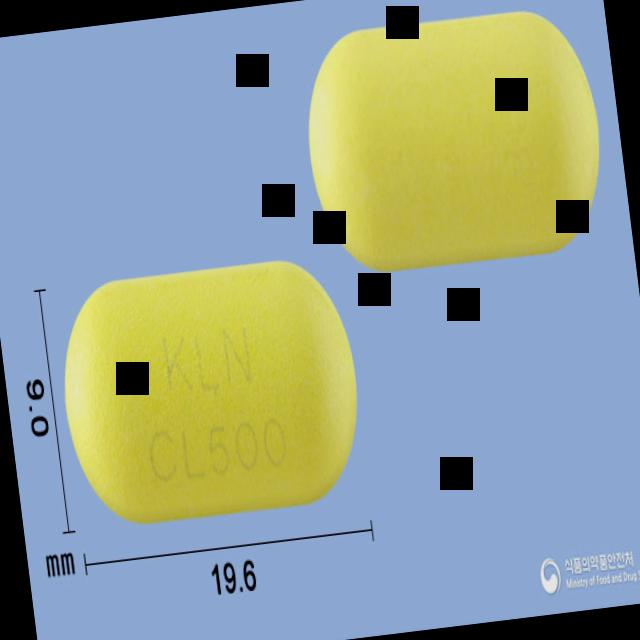New Clato Tab-500mg: (51, 251, 370, 532)
